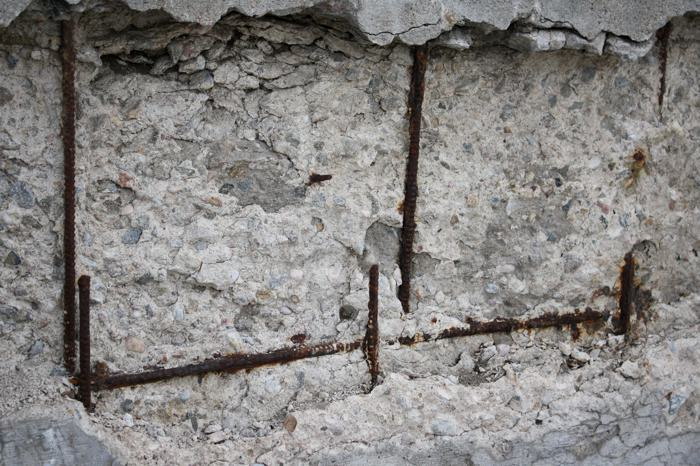Exposed reinforcement: (91, 338, 363, 393), (395, 44, 429, 315), (397, 307, 611, 347), (61, 1, 76, 375), (365, 263, 380, 391), (78, 275, 91, 412), (616, 252, 635, 335), (657, 20, 674, 106), (306, 174, 333, 182)
Spalling: (1, 1, 700, 466)
